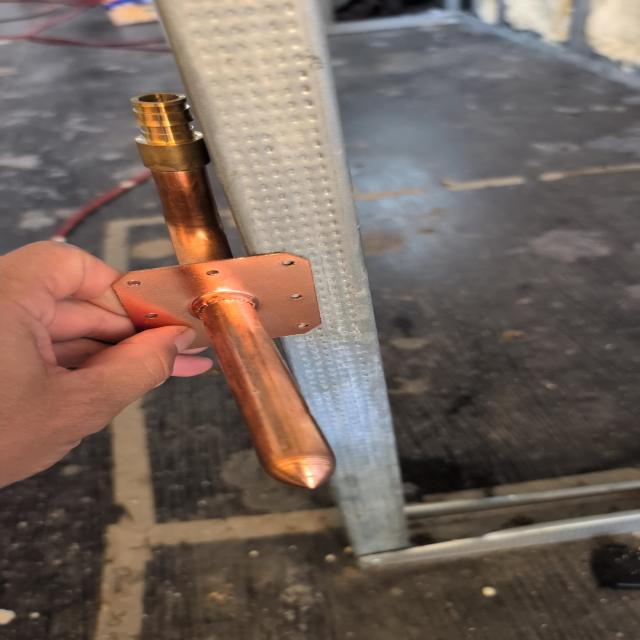wall_flange: (108, 91, 370, 497)
